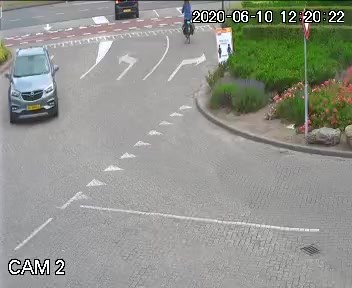car: (5, 44, 61, 127), (109, 0, 140, 23)
